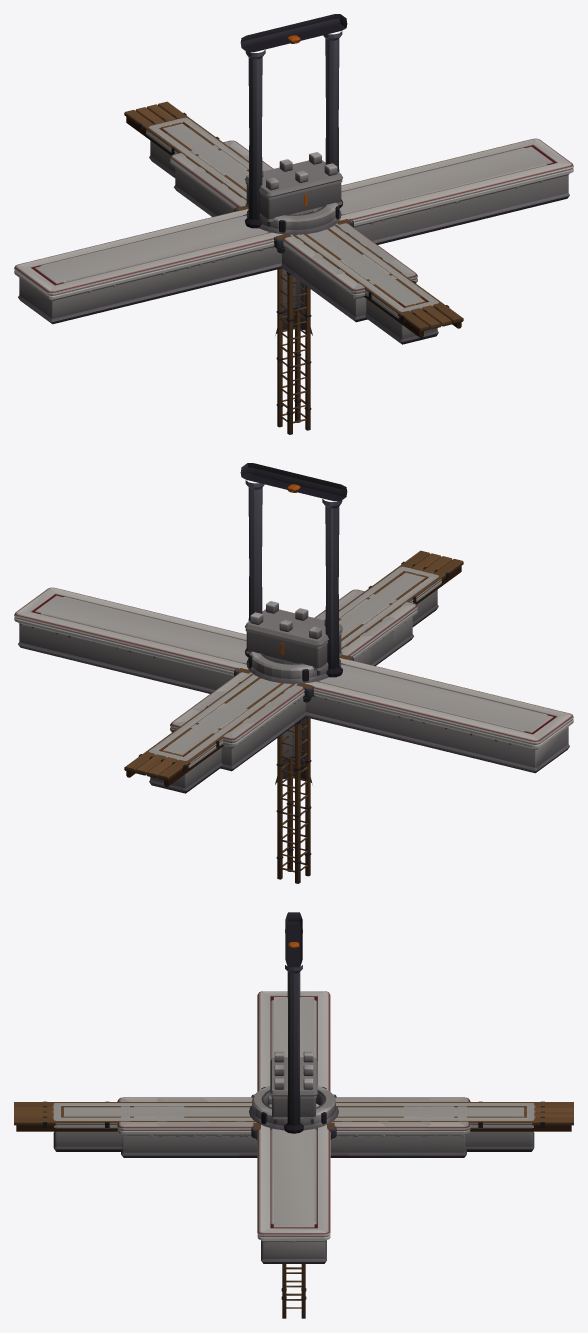
File: fortress-2-BBAgYVEO.glb
3 views of the same model, one above another, from view 1: azimuth 30°, elevation 25°; view 2: azimuth 150°, elevation 25°; view 3: azimuth 270°, elevation 25° (orthographic). The views are drawn at different scales.
Parts seen in each view (by area): view 1: block_47.29999999999927x2x6#1, block_4x2x40_grate#0, pressFrame_5x6x2x7#0, block_4x2x46_plank#1, spout_5x2#0, truss_18#0, block_6x2x29#0, block_6x2x23#1, block_44x2x4_grate#1, block_6x2x16#0, geyserVent_5#0, support_1_round#0; view 2: block_47.29999999999927x2x6#1, block_4x2x40_grate#0, pressFrame_5x6x2x7#0, block_4x2x46_plank#1, spout_5x2#0, truss_18#0, block_6x2x29#0, block_6x2x23#1, block_44x2x4_grate#1, block_6x2x16#0, geyserVent_5#0, support_1_round#0; view 3: block_47.29999999999927x2x6#1, block_4x2x40_grate#0, block_6x2x23#1, block_4x2x46_plank#1, block_6x2x29#0, block_6x2x16#0, pressFrame_5x6x2x7#0, spout_5x2#0, geyserVent_5#0, block_44x2x4_grate#1, truss_18#0, beam_2.5x1.5x18_plank#0.
Part boxes in pixels (x1=…): block_47.29999999999927x2x6#1: x1=14, y1=138, x2=573, y2=324; block_4x2x40_grate#0: x1=146, y1=117, x2=438, y2=344; pressFrame_5x6x2x7#0: x1=240, y1=14, x2=347, y2=228; block_4x2x46_plank#1: x1=124, y1=101, x2=463, y2=337; spout_5x2#0: x1=245, y1=152, x2=342, y2=226; truss_18#0: x1=276, y1=268, x2=311, y2=434; block_6x2x29#0: x1=170, y1=140, x2=417, y2=322; block_6x2x23#1: x1=190, y1=155, x2=396, y2=307; block_44x2x4_grate#1: x1=40, y1=147, x2=548, y2=283; block_6x2x16#0: x1=213, y1=183, x2=373, y2=291; geyserVent_5#0: x1=246, y1=202, x2=341, y2=234; support_1_round#0: x1=275, y1=268, x2=312, y2=335; block_47.29999999999927x2x6#1: x1=14, y1=587, x2=573, y2=773; block_4x2x40_grate#0: x1=149, y1=566, x2=441, y2=793; pressFrame_5x6x2x7#0: x1=240, y1=463, x2=347, y2=677; block_4x2x46_plank#1: x1=124, y1=550, x2=463, y2=786; spout_5x2#0: x1=245, y1=601, x2=342, y2=675; truss_18#0: x1=276, y1=717, x2=311, y2=883; block_6x2x29#0: x1=170, y1=589, x2=417, y2=771; block_6x2x23#1: x1=191, y1=604, x2=397, y2=756; block_44x2x4_grate#1: x1=39, y1=596, x2=547, y2=732; block_6x2x16#0: x1=214, y1=632, x2=374, y2=740; geyserVent_5#0: x1=246, y1=651, x2=341, y2=683; support_1_round#0: x1=275, y1=717, x2=312, y2=784; block_47.29999999999927x2x6#1: x1=257, y1=991, x2=330, y2=1263; block_4x2x40_grate#0: x1=51, y1=1103, x2=536, y2=1151; block_6x2x23#1: x1=157, y1=1097, x2=430, y2=1157; block_4x2x46_plank#1: x1=14, y1=1101, x2=573, y2=1131; block_6x2x29#0: x1=117, y1=1097, x2=470, y2=1157; block_6x2x16#0: x1=199, y1=1097, x2=388, y2=1157; pressFrame_5x6x2x7#0: x1=284, y1=912, x2=303, y2=1133; spout_5x2#0: x1=268, y1=1051, x2=317, y2=1123; geyserVent_5#0: x1=249, y1=1085, x2=338, y2=1130; block_44x2x4_grate#1: x1=270, y1=1000, x2=317, y2=1224; truss_18#0: x1=281, y1=1264, x2=306, y2=1318; beam_2.5x1.5x18_plank#0: x1=184, y1=1106, x2=403, y2=1117.
Size of the model in its own units: 47.3 by 34.4 by 46.
